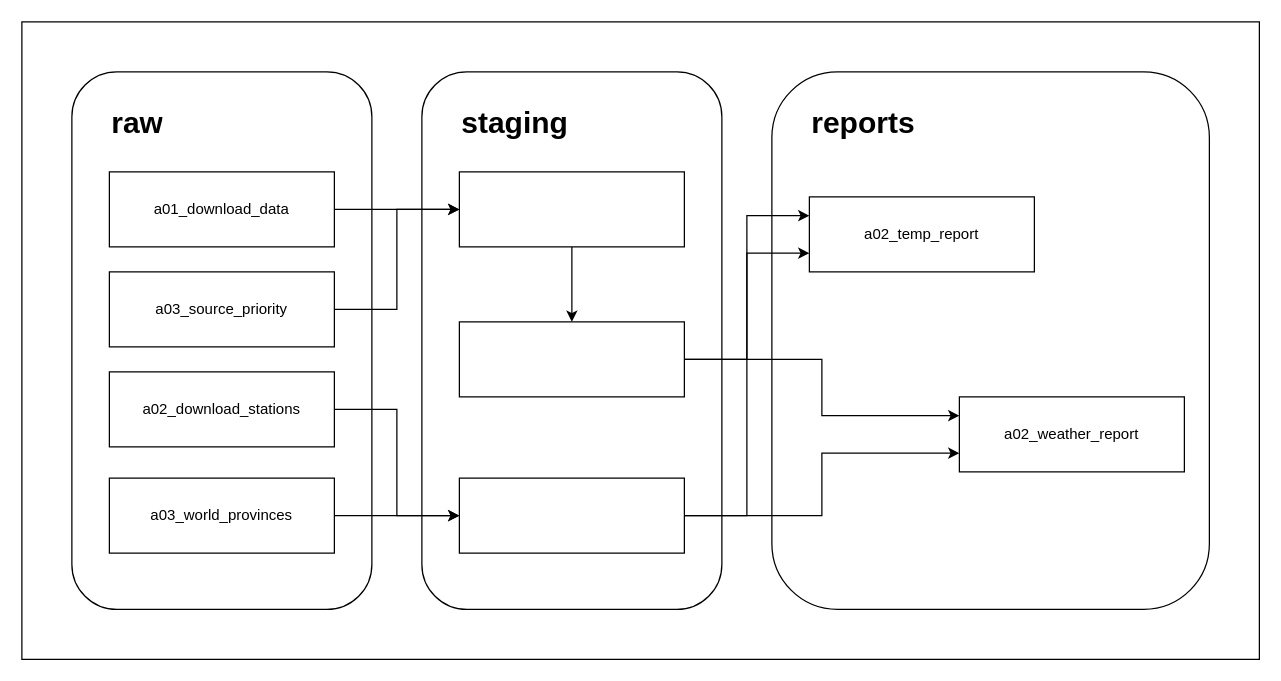
This 1281x681 diagram has some shape labels left out. Each missing label, with the box of its shape:
a01_pivot_data: (458, 171, 684, 247)
a02_transformed_data: (458, 321, 684, 397)
a03_stations: (458, 477, 684, 553)
